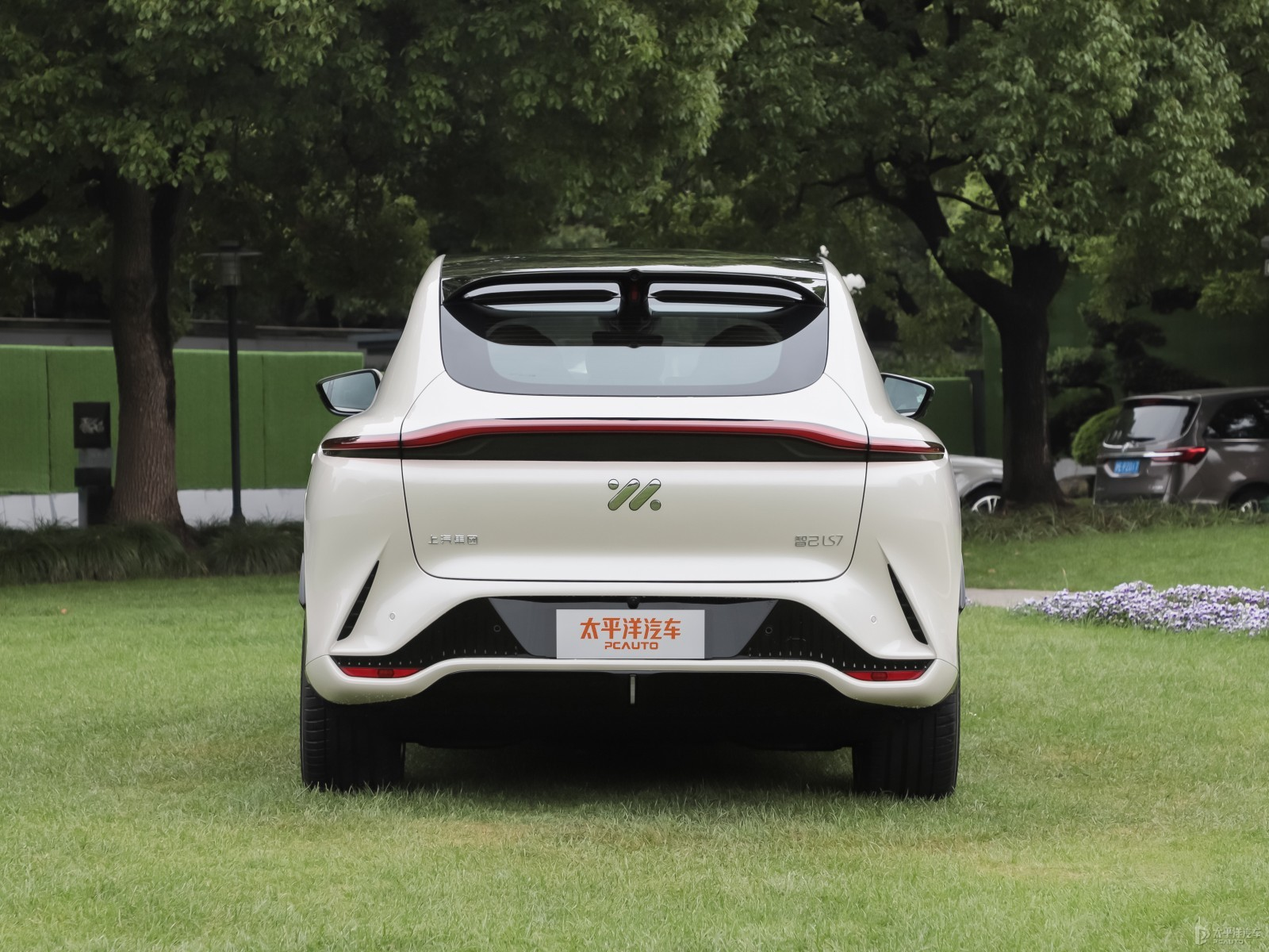IM: (608, 480, 660, 510)
